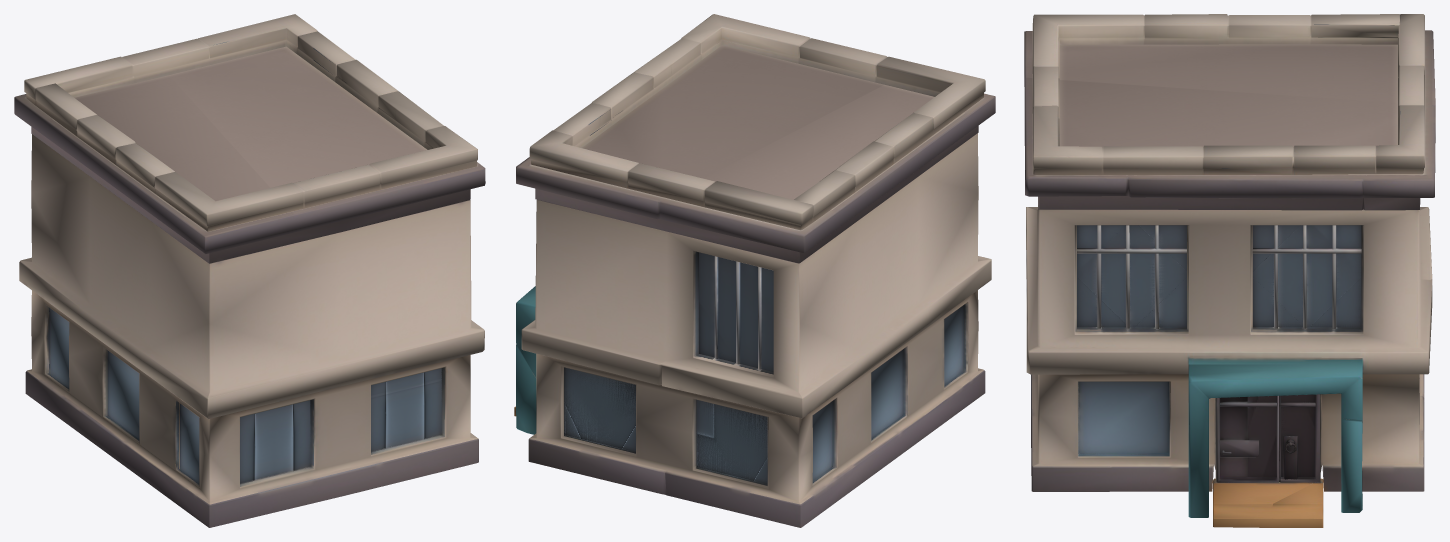
Rendered from building-low.glb.
The picture shows the model from 3 angles, left to right: view 1: azimuth 30°, elevation 25°; view 2: azimuth 150°, elevation 25°; view 3: azimuth 270°, elevation 25°; orthographic projection. The views are drawn at different scales.
Parts seen in each view (by area): view 1: tripo_node_kodyurd-model-5_____________________; view 2: tripo_node_kodyurd-model-5_____________________; view 3: tripo_node_kodyurd-model-5_____________________.
Boxes of the visible parts, <box> form: tripo_node_kodyurd-model-5_____________________: <box>14,14,485,527</box>; tripo_node_kodyurd-model-5_____________________: <box>514,14,995,527</box>; tripo_node_kodyurd-model-5_____________________: <box>1024,14,1435,527</box>.
Bounding box in the file's own units: 0.998 × 0.8926 × 0.9785.
Materials: 1 (1 with a texture image).
